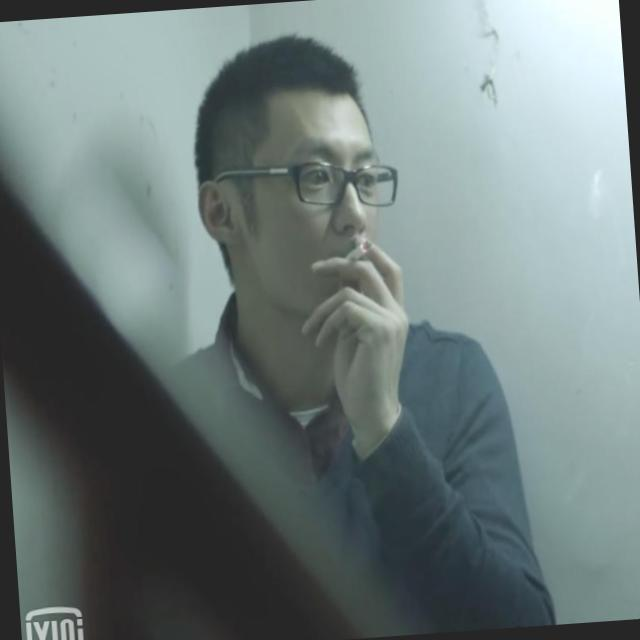smoke: (344, 234, 374, 264)
